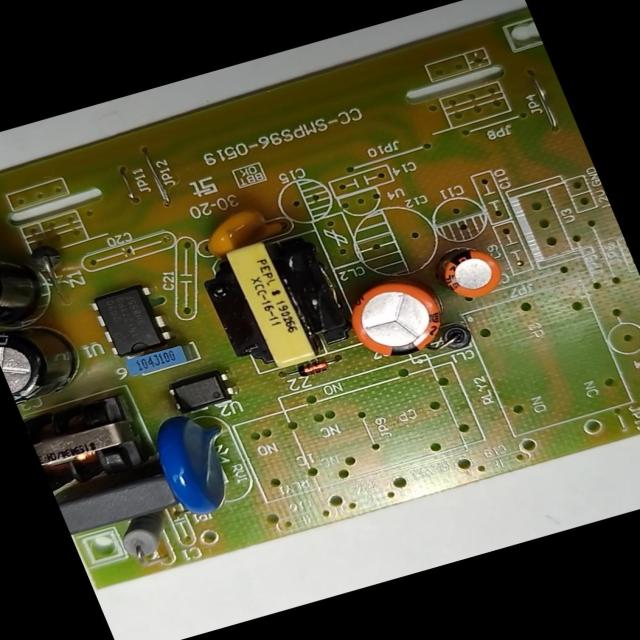Cap1: (340, 269, 456, 366)
Cap2: (440, 245, 509, 302)
Cap3: (0, 311, 95, 405)
Cap4: (0, 228, 57, 333)
MOSFET: (88, 281, 178, 362)
Mov: (143, 402, 255, 523)
Resistor: (112, 505, 182, 563)
Transformer: (192, 224, 364, 380), (22, 389, 162, 496)
